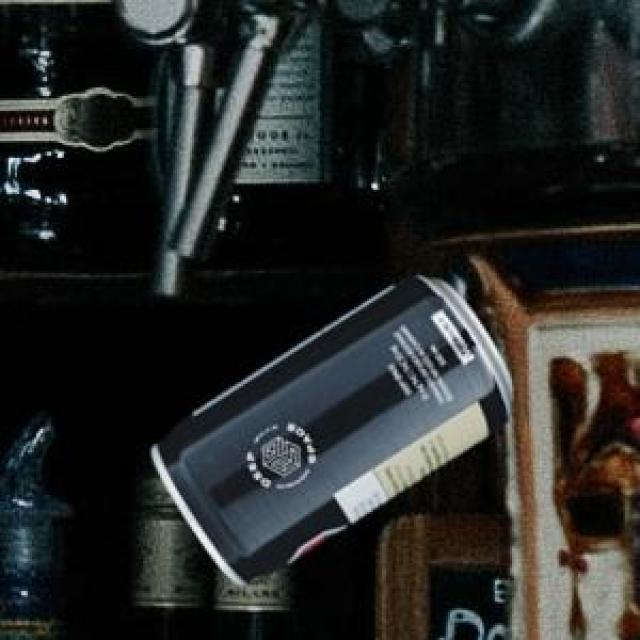Can: (148, 272, 507, 583)
